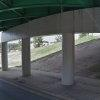Bridge: (4, 9, 99, 70)
